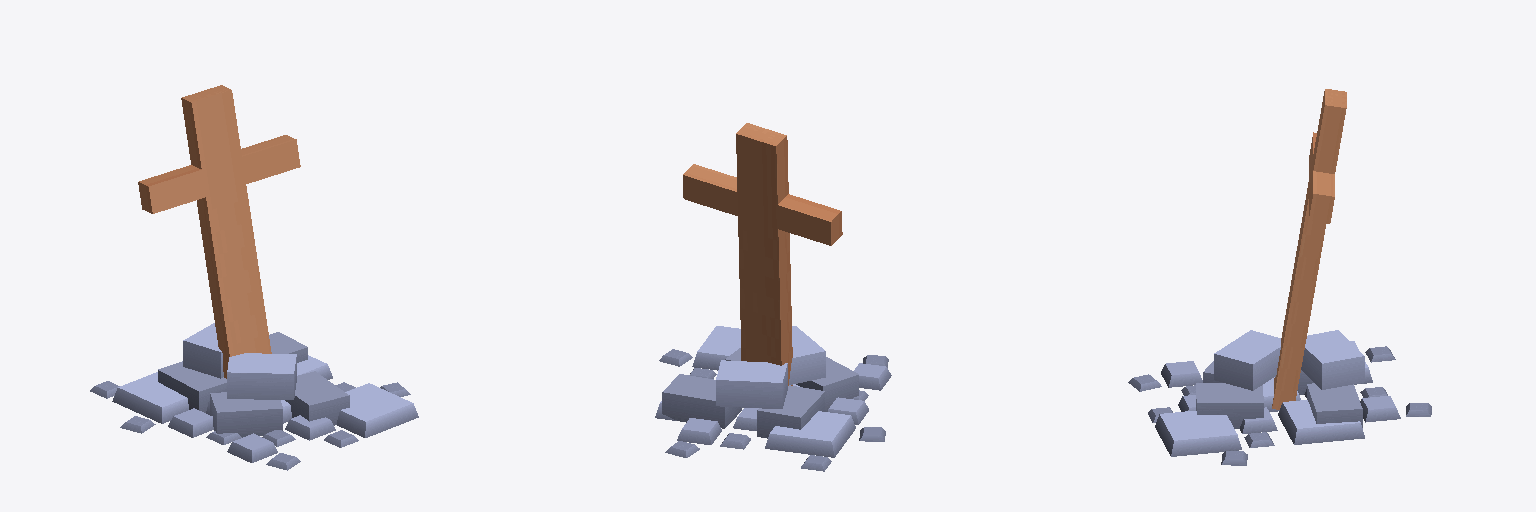
The picture shows the model from 3 angles: view 1: azimuth 30°, elevation 25°; view 2: azimuth 150°, elevation 25°; view 3: azimuth 270°, elevation 25°; orthographic projection.
Visible parts, largest first — view 1: Cube; view 2: Cube; view 3: Cube.
Boxes of the visible parts, <box> form: Cube: <box>90,85,418,470</box>; Cube: <box>655,123,891,471</box>; Cube: <box>1128,89,1431,465</box>.
Size of the model in its own units: 0.929 by 1.05 by 0.9684.
3 materials, 1 textured.